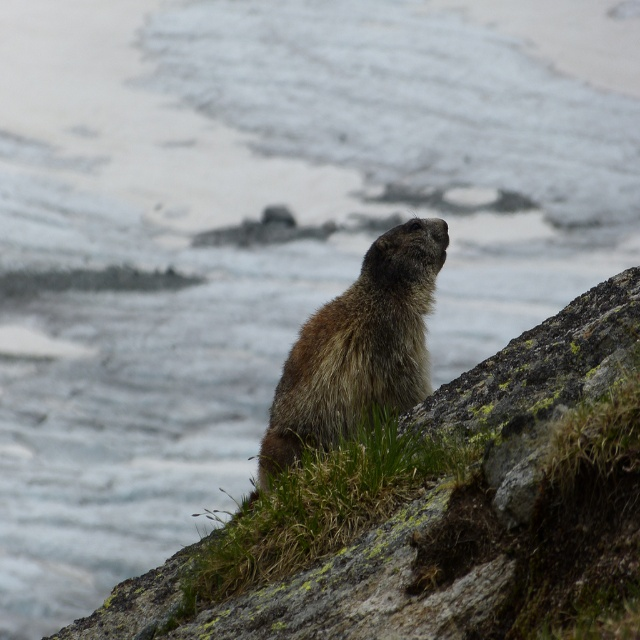Harbor seal: (254, 209, 450, 491)
